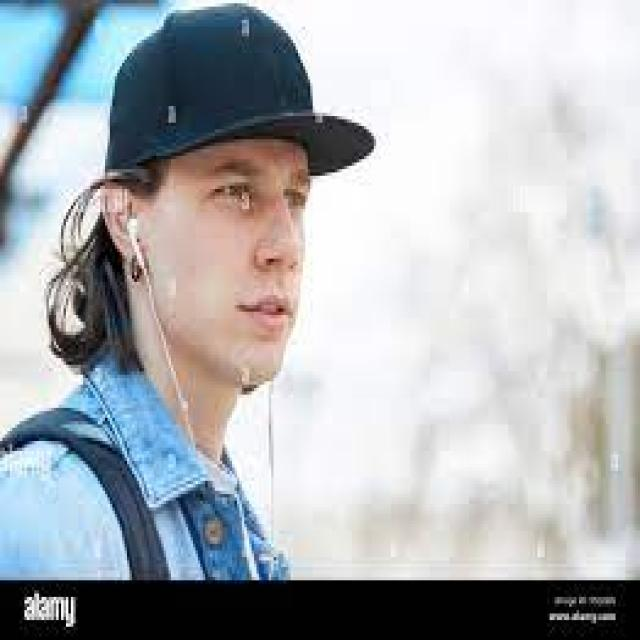3_gorra: (105, 0, 378, 175)
